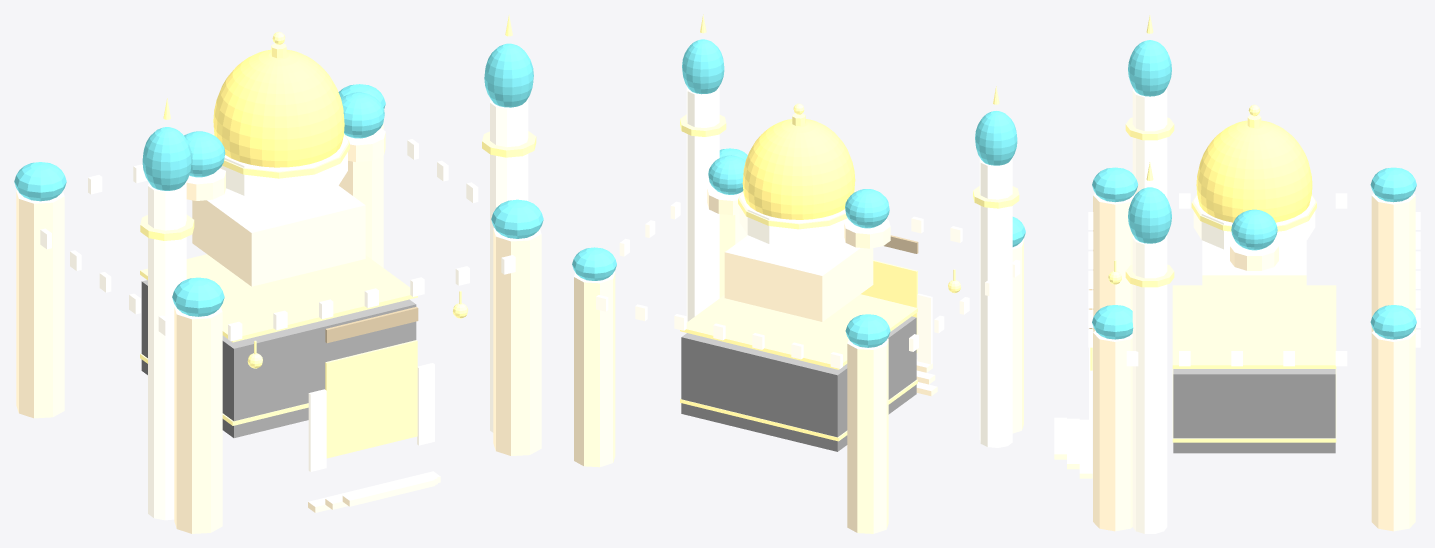
Rendered from Palace.glb.
3 views of the same model, side by side, from view 1: azimuth 30°, elevation 25°; view 2: azimuth 150°, elevation 25°; view 3: azimuth 270°, elevation 25° (orthographic). The views are drawn at different scales.
Visible parts, largest first — view 1: Pavilion, MainDome, Body, Tower_-3_-2, Tower_-3_2, Tower_3_-2, Minaret_L, BodyBand_2, Portal, Minaret_R, MainDrum, Tower_3_2 (+16 smaller); view 2: Body, Pavilion, Minaret_L, MainDome, Tower_-3_2, Tower_3_2, BodyBand_2, Minaret_R, MainDrum, Tower_-3_-2, MinaretCap_R, MinaretCap_L (+13 smaller); view 3: Body, Minaret_R, BodyBand_2, MainDome, Tower_3_2, Tower_3_-2, Pavilion, Tower_-3_2, Tower_-3_-2, Minaret_L, MinaretCap_R, MinaretCap_L (+14 smaller).
Boxes of the visible parts, x1=… form: Pavilion: x1=192, y1=185, x2=365, y2=286; MainDome: x1=213, y1=49, x2=344, y2=167; Body: x1=141, y1=280, x2=416, y2=437; Tower_-3_-2: x1=174, y1=306, x2=222, y2=533; Tower_-3_2: x1=16, y1=190, x2=64, y2=418; Tower_3_-2: x1=493, y1=228, x2=541, y2=455; Minaret_L: x1=148, y1=182, x2=186, y2=520; BodyBand_2: x1=140, y1=254, x2=417, y2=342; Portal: x1=325, y1=340, x2=417, y2=458; Minaret_R: x1=490, y1=99, x2=528, y2=432; MainDrum: x1=214, y1=134, x2=347, y2=199; Tower_3_2: x1=339, y1=122, x2=383, y2=267; Body: x1=681, y1=316, x2=916, y2=451; Pavilion: x1=724, y1=235, x2=873, y2=321; Minaret_L: x1=979, y1=158, x2=1012, y2=447; MainDome: x1=742, y1=119, x2=855, y2=219; Tower_-3_2: x1=847, y1=338, x2=888, y2=533; Tower_3_2: x1=574, y1=271, x2=615, y2=467; BodyBand_2: x1=680, y1=294, x2=917, y2=369; Minaret_R: x1=686, y1=87, x2=719, y2=322; MainDrum: x1=739, y1=191, x2=854, y2=247; Tower_-3_-2: x1=1012, y1=239, x2=1023, y2=433; MinaretCap_R: x1=682, y1=39, x2=724, y2=94; MinaretCap_L: x1=975, y1=111, x2=1017, y2=165; Body: x1=1173, y1=369, x2=1335, y2=453; Minaret_R: x1=1132, y1=236, x2=1167, y2=533; BodyBand_2: x1=1172, y1=285, x2=1336, y2=368; MainDome: x1=1196, y1=120, x2=1312, y2=222; Tower_3_2: x1=1371, y1=330, x2=1415, y2=531; Tower_3_-2: x1=1093, y1=330, x2=1132, y2=531; Pavilion: x1=1202, y1=240, x2=1306, y2=322; Tower_-3_2: x1=1371, y1=193, x2=1415, y2=332; Tower_-3_-2: x1=1093, y1=193, x2=1135, y2=331; Minaret_L: x1=1132, y1=89, x2=1167, y2=236; MinaretCap_R: x1=1128, y1=187, x2=1171, y2=243; MinaretCap_L: x1=1128, y1=40, x2=1171, y2=96.
Size of the model in its own units: 6.8 by 6.96 by 6.31.
